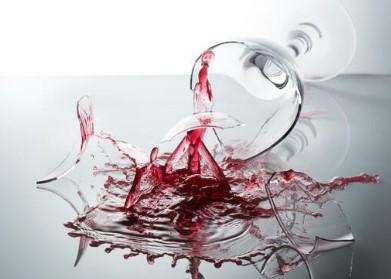glass: (188, 3, 357, 160), (258, 174, 357, 279), (159, 111, 244, 144)
